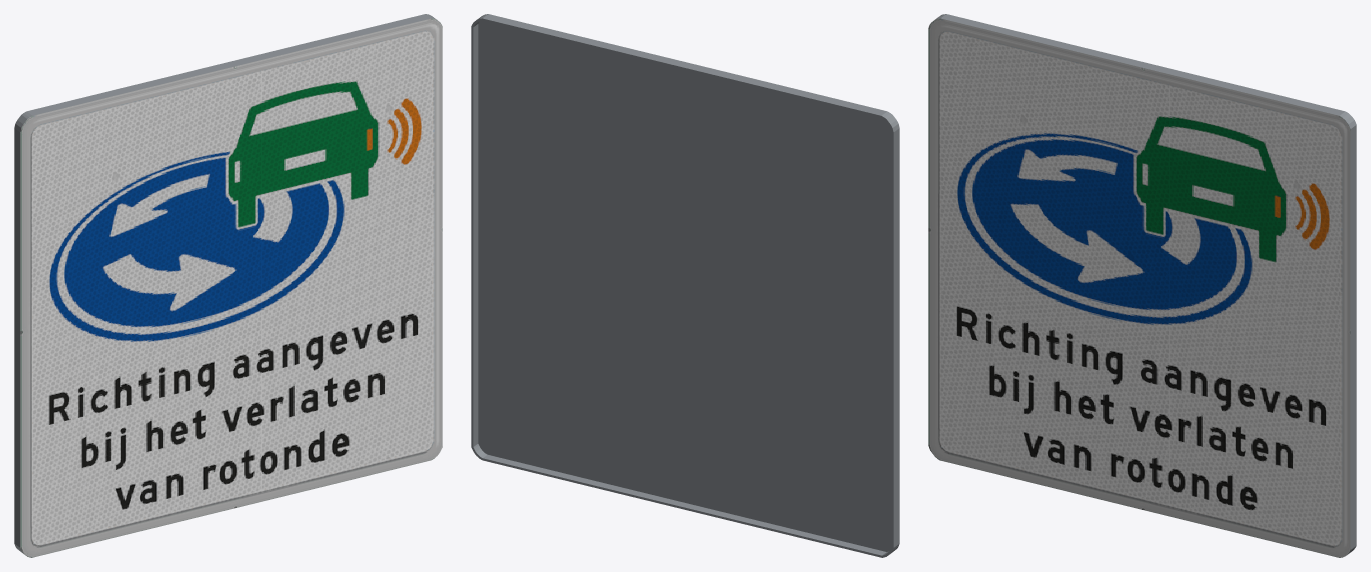
3 renders of one model, left to right at view 1: azimuth 30°, elevation 25°; view 2: azimuth 150°, elevation 25°; view 3: azimuth 330°, elevation 25°, orthographic.
Visible parts, largest first — view 1: cat_fbd2aa35e1c95aec; view 2: cat_fbd2aa35e1c95aec; view 3: cat_fbd2aa35e1c95aec.
Boxes of the visible parts, <box> form: cat_fbd2aa35e1c95aec: <box>14,14,442,557</box>; cat_fbd2aa35e1c95aec: <box>471,14,899,557</box>; cat_fbd2aa35e1c95aec: <box>928,14,1356,557</box>.
Size of the model in its own units: 0.6 by 0.015 by 0.6.
2 materials, 1 textured.
